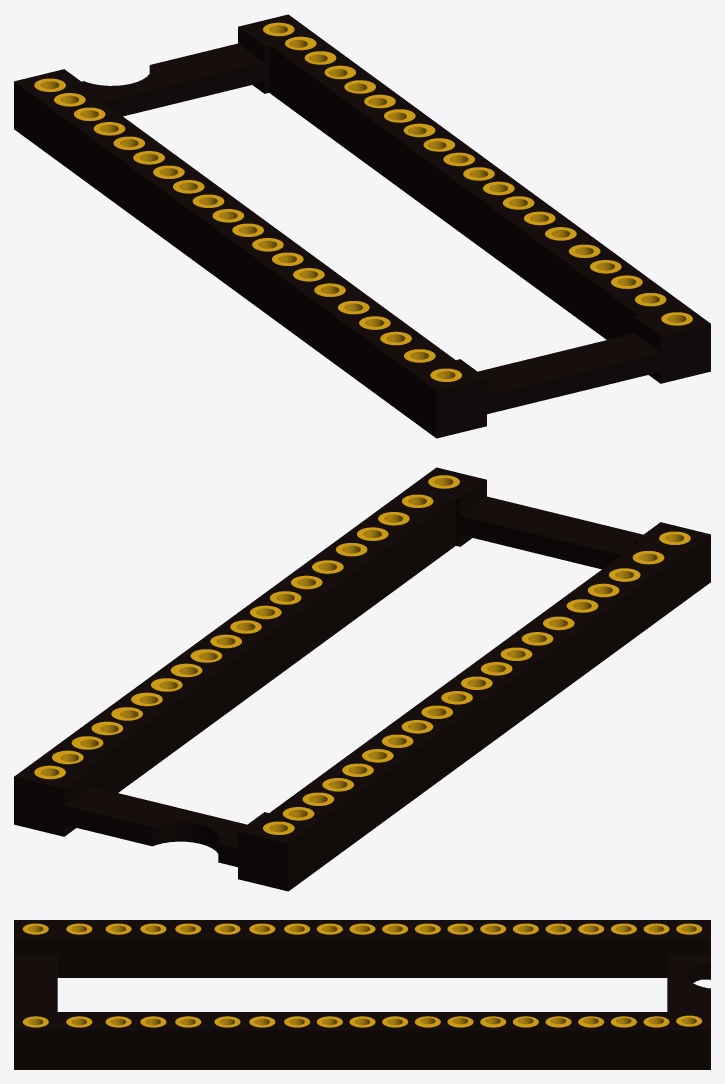
The model's file is dipSocket40.fbx.
3 renders of one model, top to bottom at view 1: azimuth 30°, elevation 25°; view 2: azimuth 150°, elevation 25°; view 3: azimuth 270°, elevation 25°, orthographic. The views are drawn at different scales.
Visible parts, largest first — view 1: Base; view 2: Base; view 3: Base.
Part boxes in pixels (left/top/right/bottom): Base: left=14, top=14, right=710, bottom=438; Base: left=14, top=467, right=710, bottom=891; Base: left=14, top=920, right=710, bottom=1069.
Size of the model in its own units: 600 by 101 by 1600.
